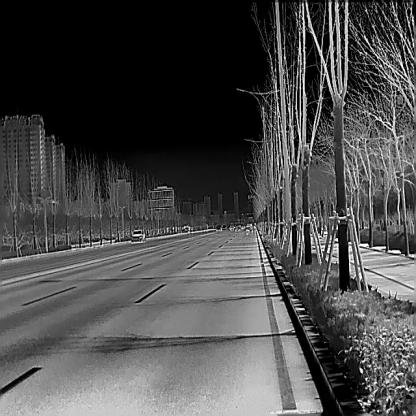car: (131, 229, 145, 240), (245, 224, 252, 233), (214, 224, 221, 230), (234, 225, 240, 232), (222, 224, 226, 229)
